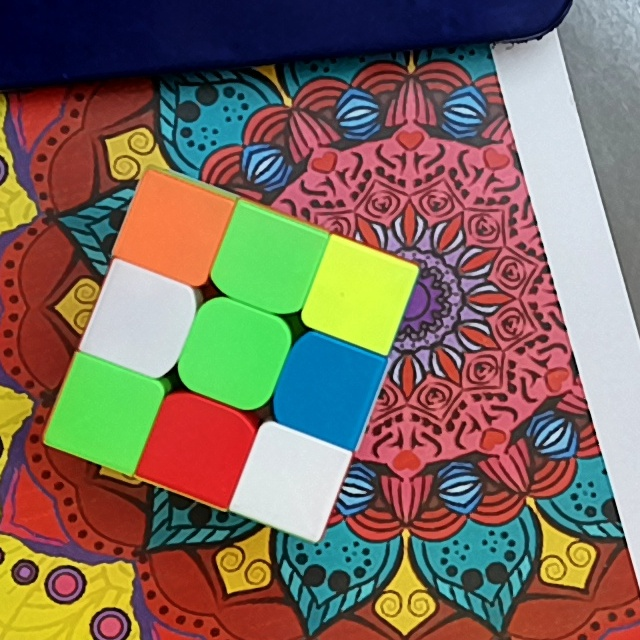tile: (70, 376, 141, 449), (253, 446, 327, 515), (199, 319, 272, 388), (160, 416, 236, 481), (106, 287, 178, 355), (232, 229, 304, 295), (137, 199, 209, 264), (294, 356, 363, 423), (324, 263, 394, 328)
